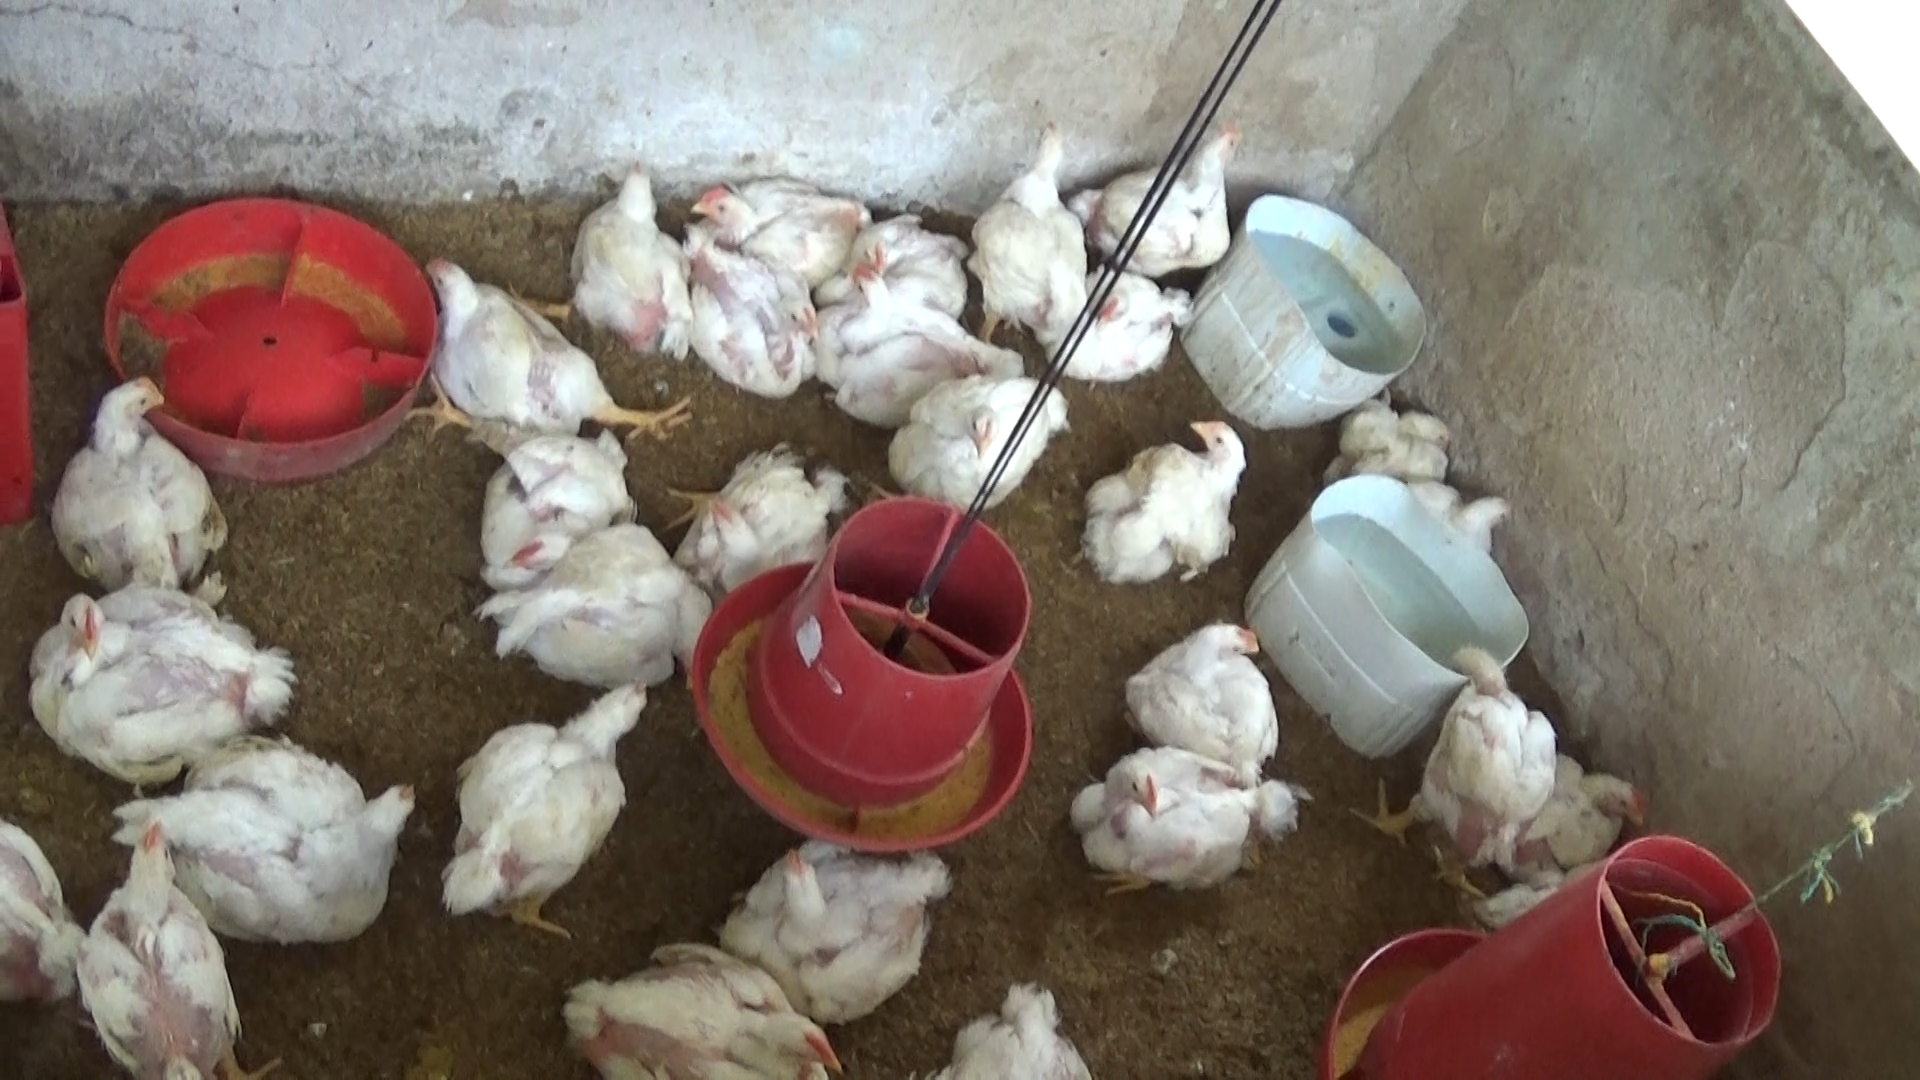Pollos: (422, 671, 662, 934), (135, 728, 426, 932), (25, 582, 299, 787), (41, 367, 237, 597), (716, 828, 949, 1015), (545, 936, 852, 1077), (91, 812, 245, 1080), (417, 248, 616, 440), (1060, 742, 1294, 902), (1402, 628, 1551, 873), (1073, 406, 1259, 593), (485, 529, 698, 678), (1114, 608, 1294, 781), (881, 359, 1065, 524), (1077, 109, 1255, 277), (462, 431, 634, 593), (965, 113, 1083, 345), (555, 156, 686, 359), (827, 239, 972, 411), (680, 448, 843, 585), (694, 241, 820, 402), (680, 169, 877, 268), (1367, 402, 1509, 538), (1051, 257, 1182, 386), (1520, 748, 1648, 868)
